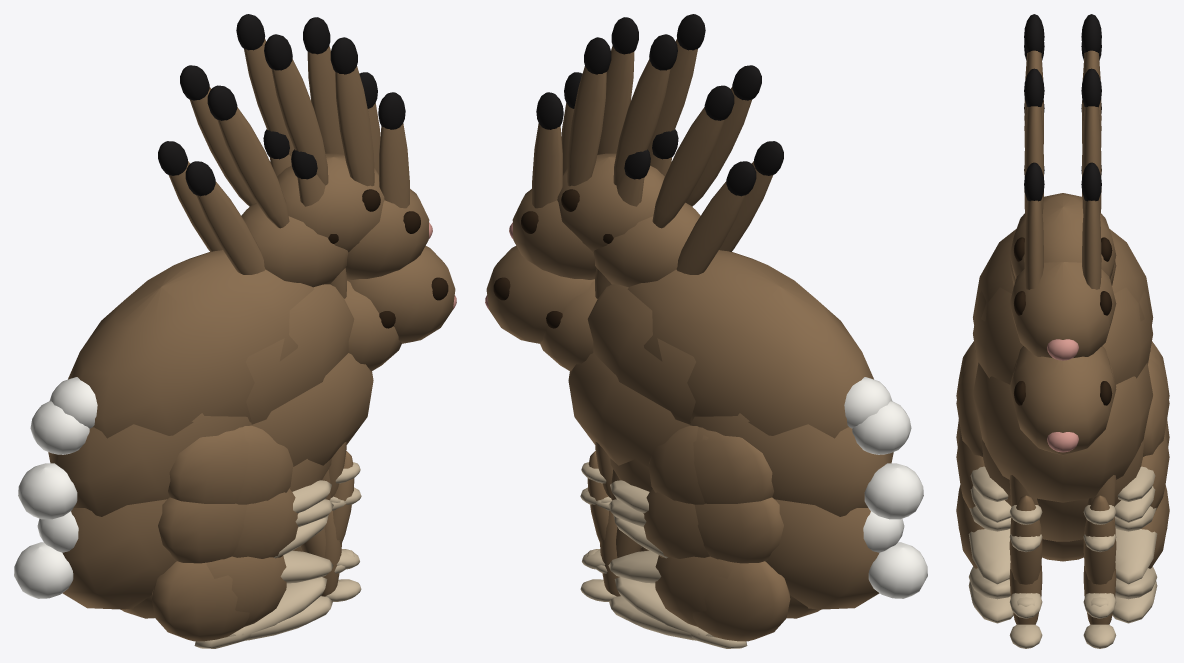
The model's file is zajic.glb.
3 renders of one model, left to right at view 1: azimuth 30°, elevation 25°; view 2: azimuth 150°, elevation 25°; view 3: azimuth 270°, elevation 25°, orthographic. The views are drawn at different scales.
Visible parts, largest first — view 1: zajic_telo_02, zajic_telo_01, zajic_telo_00, zajic_telo_03, zajic_telo_04, zajic_telo_05; view 2: zajic_telo_02, zajic_telo_01, zajic_telo_00, zajic_telo_03, zajic_telo_04, zajic_telo_05; view 3: zajic_telo_04, zajic_telo_03, zajic_telo_02, zajic_telo_05, zajic_telo_00, zajic_telo_01.
Boxes of the visible parts, x1=… form: zajic_telo_02: x1=30, y1=14, x2=384, y2=513; zajic_telo_01: x1=18, y1=65, x2=355, y2=563; zajic_telo_00: x1=14, y1=141, x2=354, y2=648; zajic_telo_03: x1=49, y1=17, x2=432, y2=527; zajic_telo_04: x1=232, y1=72, x2=456, y2=583; zajic_telo_05: x1=37, y1=129, x2=401, y2=640; zajic_telo_02: x1=557, y1=14, x2=911, y2=513; zajic_telo_01: x1=586, y1=65, x2=923, y2=563; zajic_telo_00: x1=587, y1=141, x2=927, y2=648; zajic_telo_03: x1=509, y1=17, x2=892, y2=527; zajic_telo_04: x1=485, y1=72, x2=709, y2=583; zajic_telo_05: x1=540, y1=129, x2=904, y2=640; zajic_telo_04: x1=956, y1=162, x2=1169, y2=618; zajic_telo_03: x1=956, y1=68, x2=1169, y2=551; zajic_telo_02: x1=956, y1=14, x2=1169, y2=524; zajic_telo_05: x1=956, y1=165, x2=1169, y2=648; zajic_telo_00: x1=956, y1=100, x2=1169, y2=606; zajic_telo_01: x1=956, y1=42, x2=1169, y2=539.
Bounding box in the file's own units: 0.6381 × 0.8086 × 0.26.
1 material, 1 textured.
